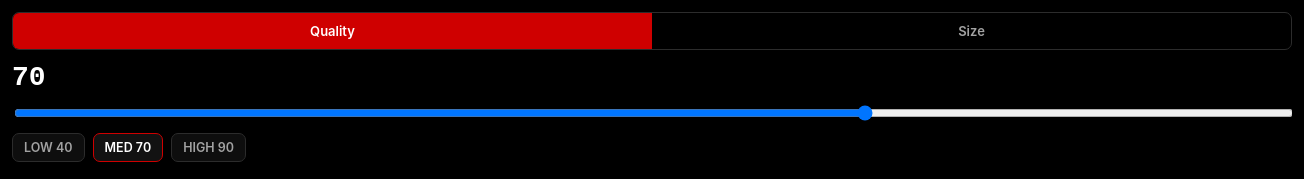
SidePanelQuality › a second decimal point is dropped rather than turning the value into NaN
Click the button with test id "quality-target-size" at (972, 31), box [652,13,1291,49]
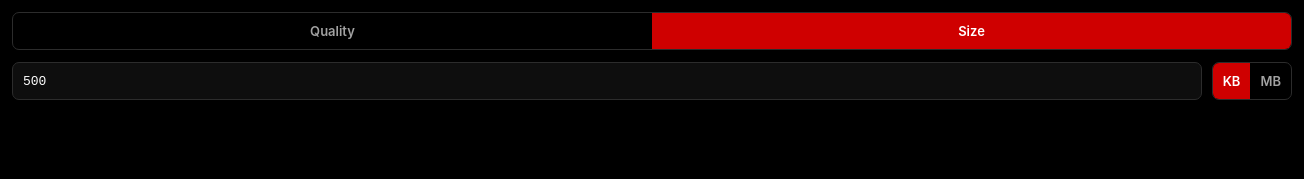
Replace the text in the field with test id "quality-size-field" with "1.2.3" at (607, 81), box [12,62,1202,100]
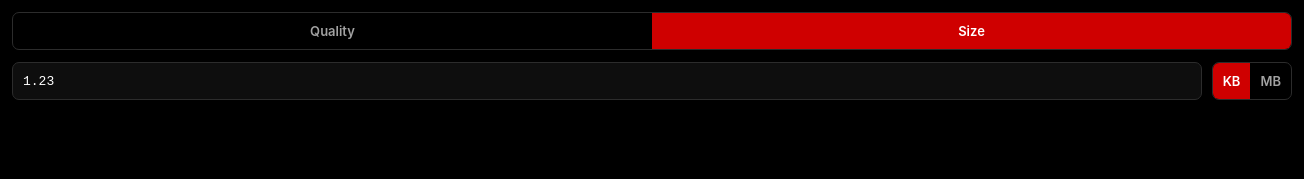
Result: the field with test id "quality-size-field" holds "1.23" at [12,62,1202,100]
